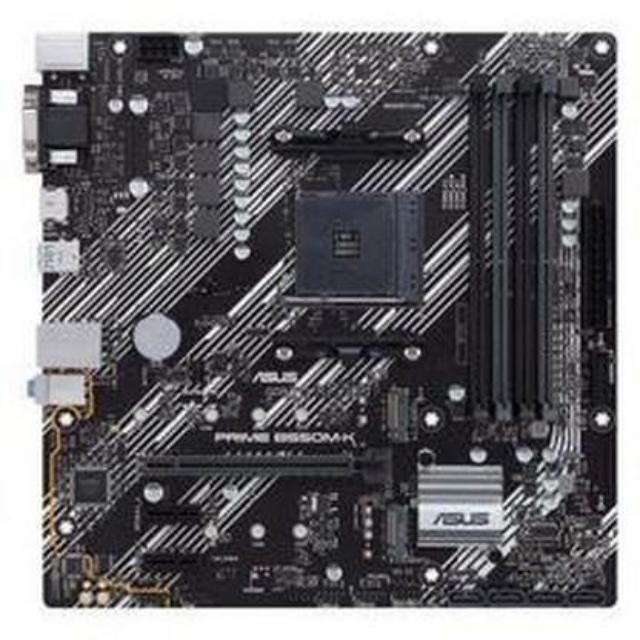Mainboard: (39, 29, 624, 612)
